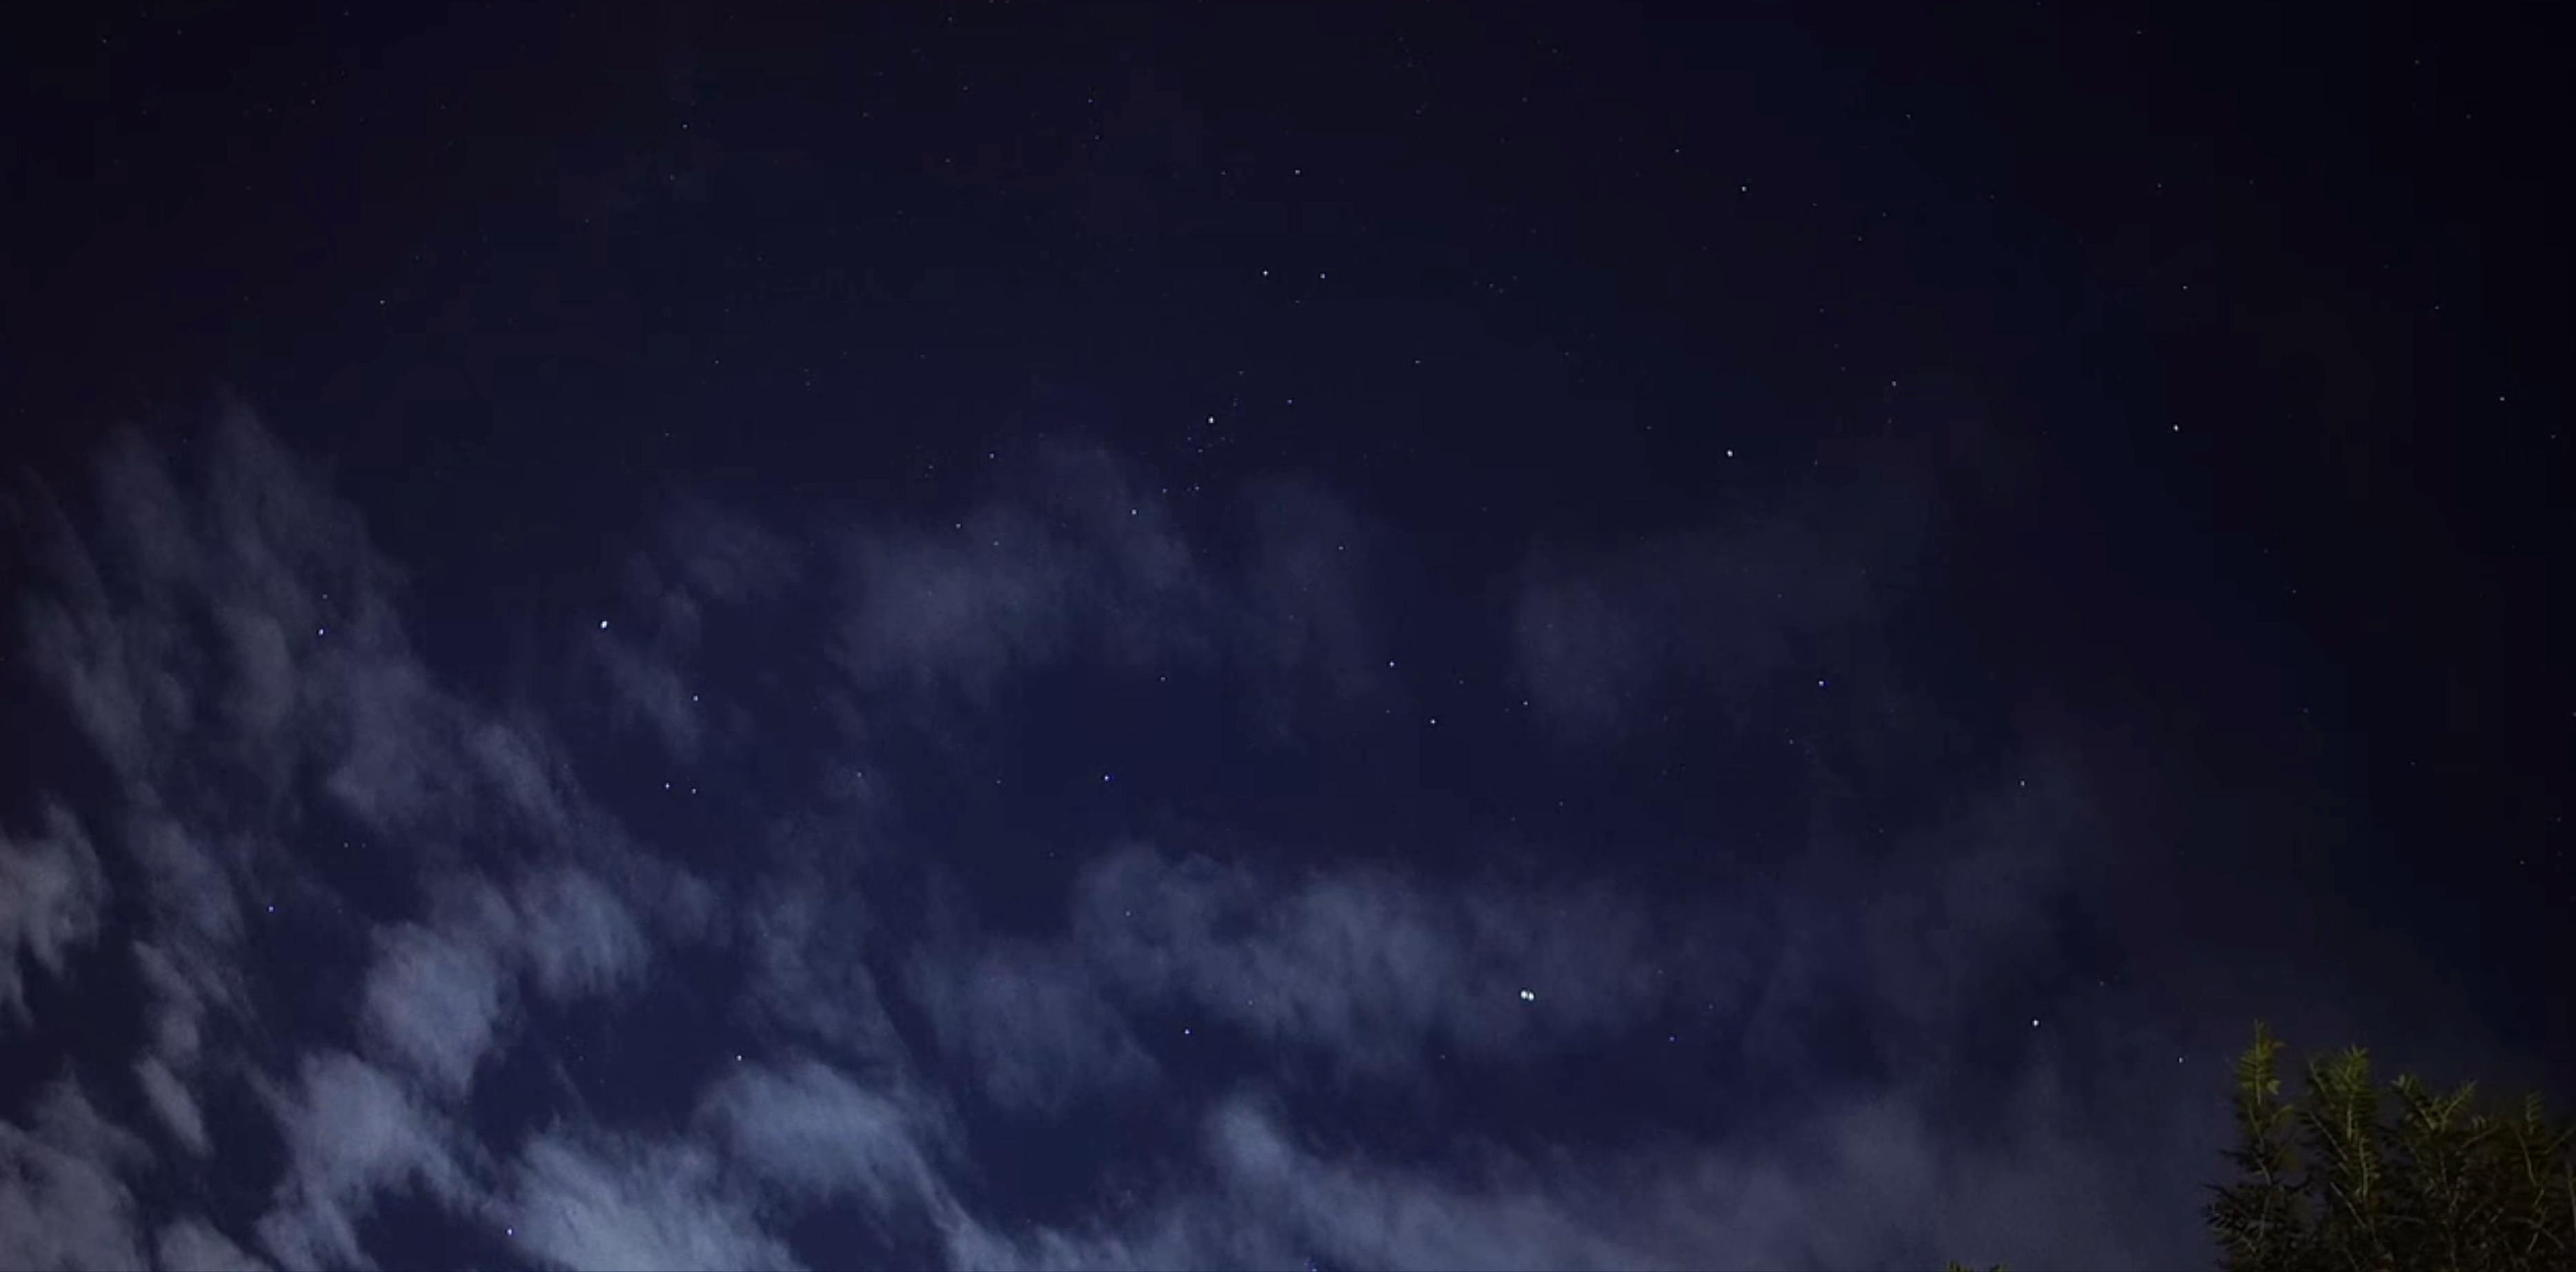Plane: (1498, 971, 1552, 1017)
